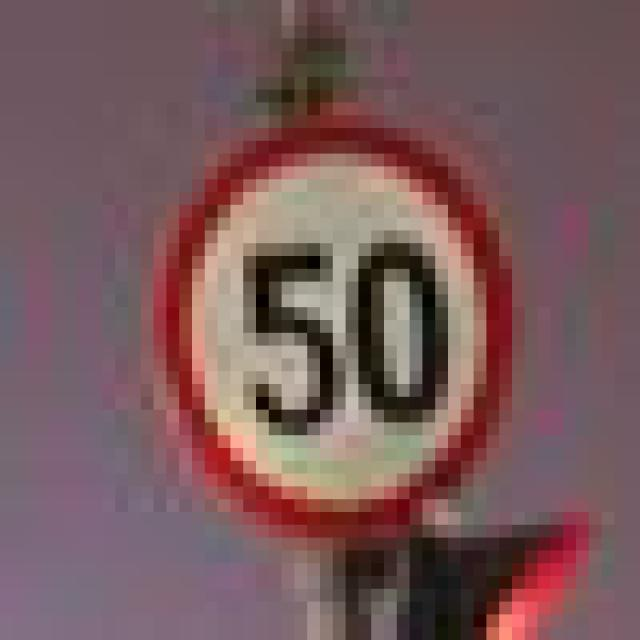SPEED_LIMIT_50: (131, 111, 513, 529)
